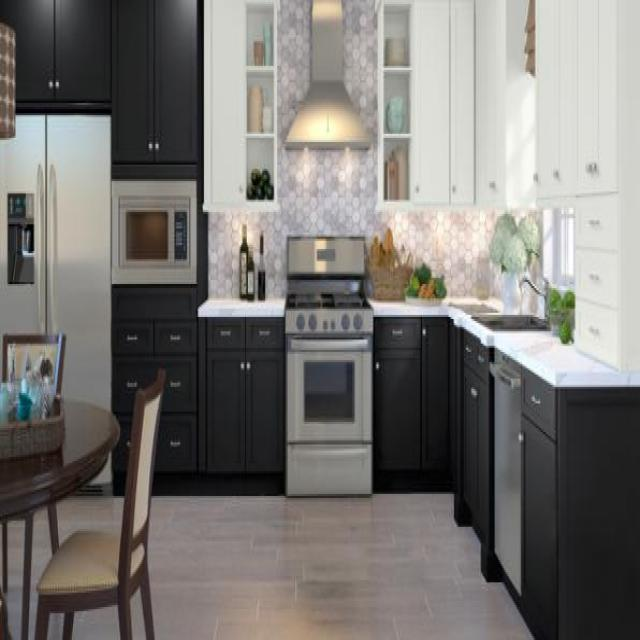dishwasher: (492, 344, 521, 605)
